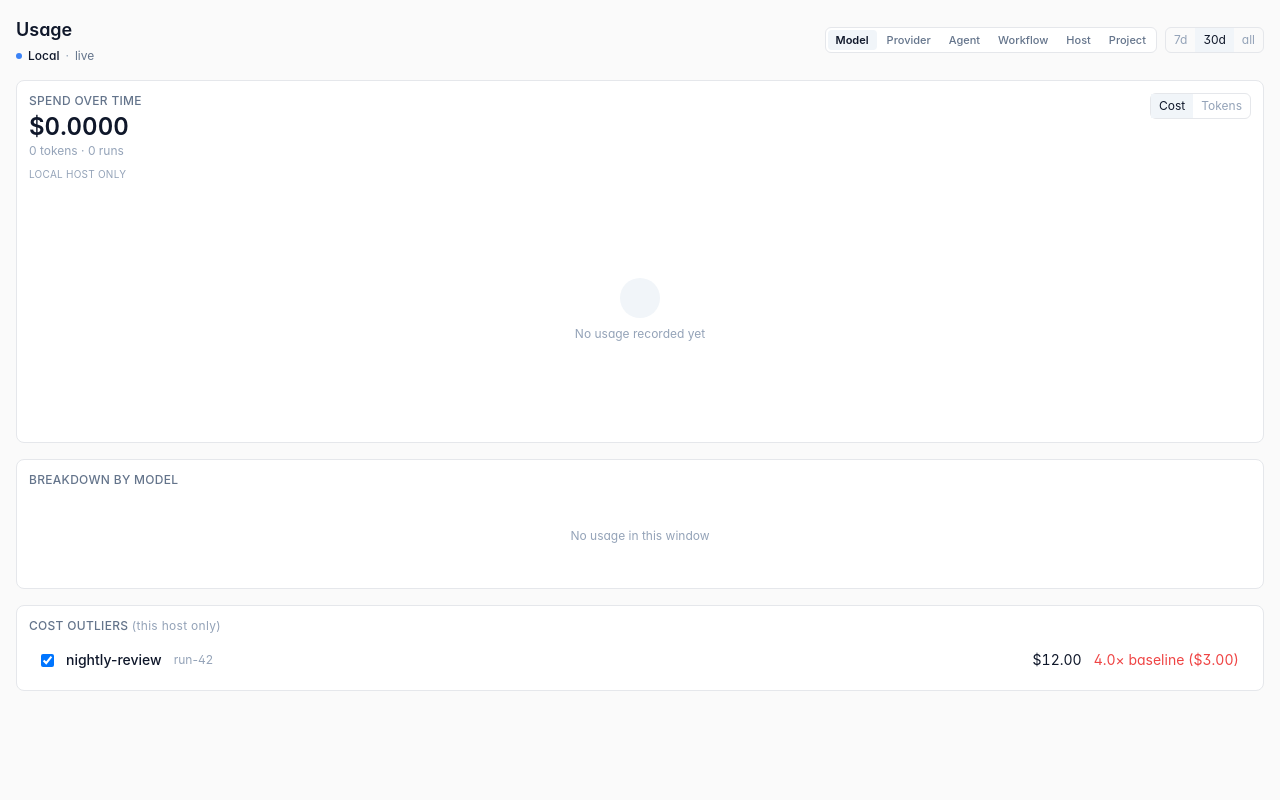
it: Usage page — background refreshes are quiet › a failed tick refresh keeps the last good outliers; a failed user change blanks them
Expected: the link "nightly-review" is shown, left=66, top=650, right=162, bottom=670
What coordinates should you click on to do the following:
click the button "7d"
I would click on:
 (1181, 40)
Its box is left=1166, top=28, right=1195, bottom=52.
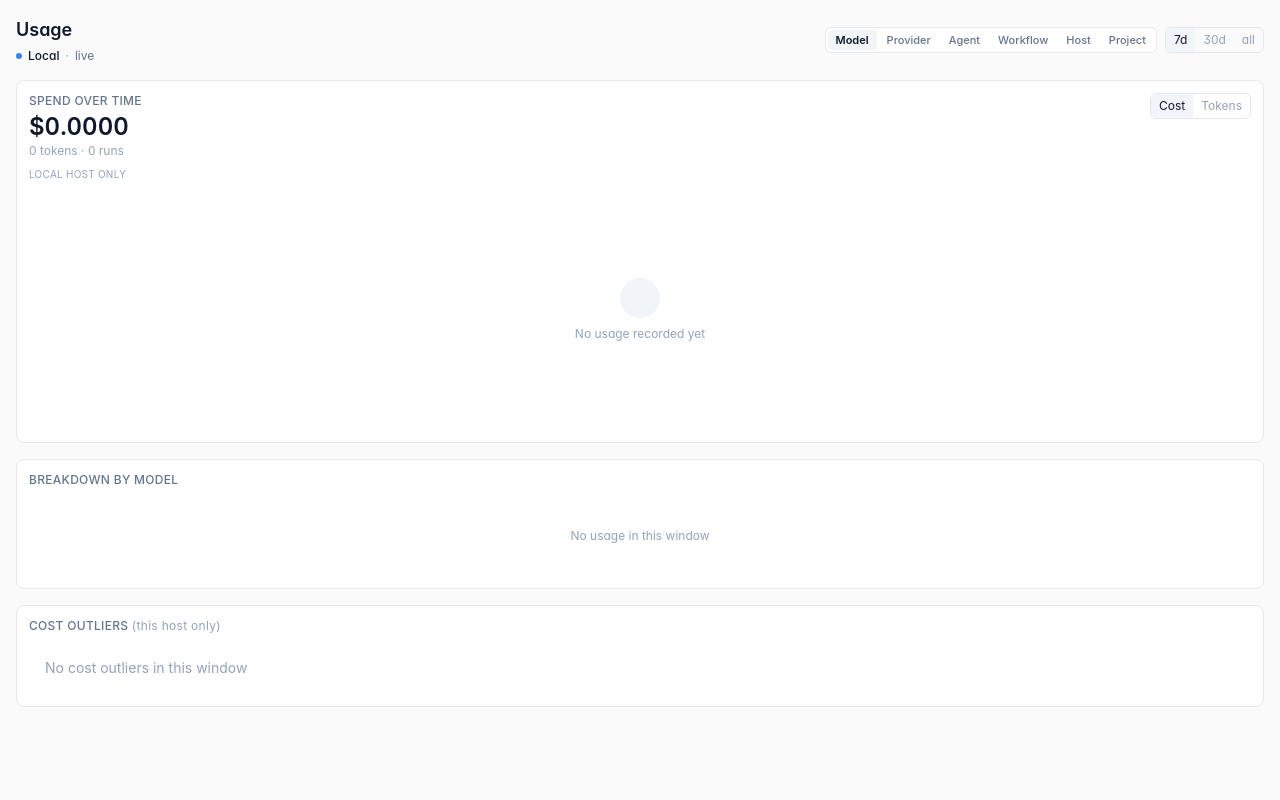
Result: the text "No cost outliers in this window" is shown at left=45, top=659, right=248, bottom=676
